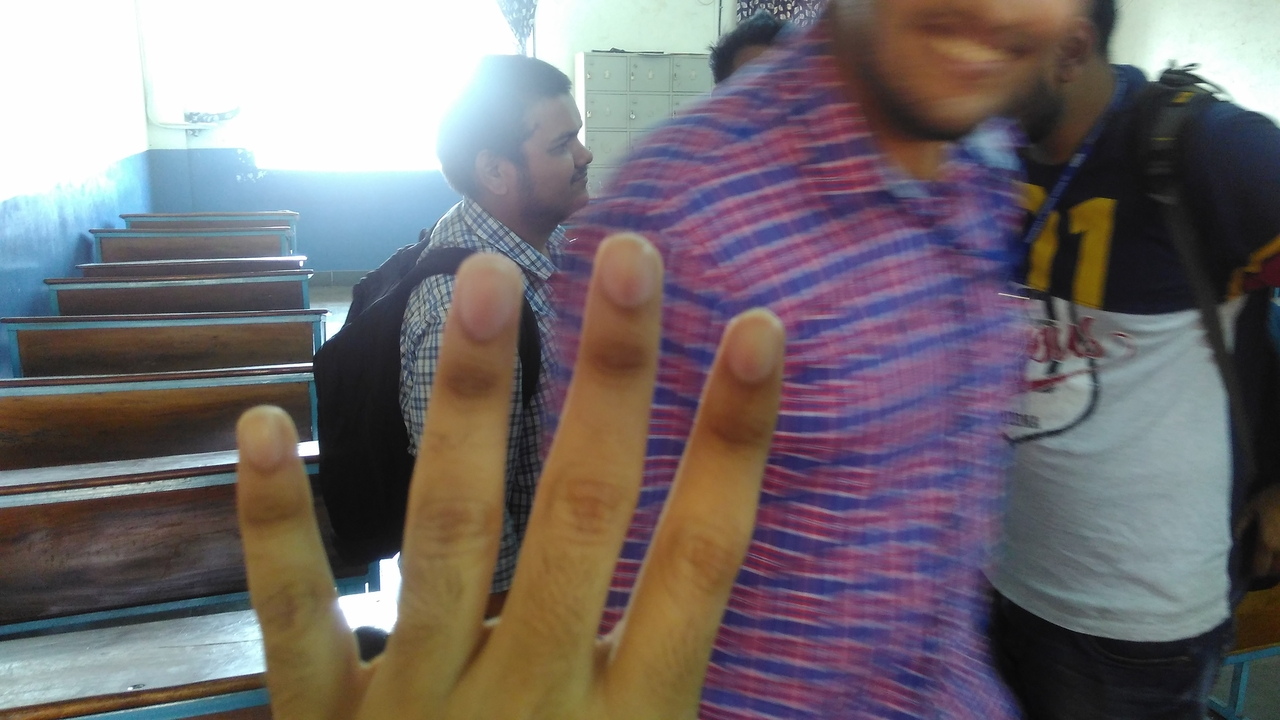fingertip: (708, 308, 792, 386), (586, 228, 660, 310), (440, 252, 512, 326), (224, 404, 292, 474)
